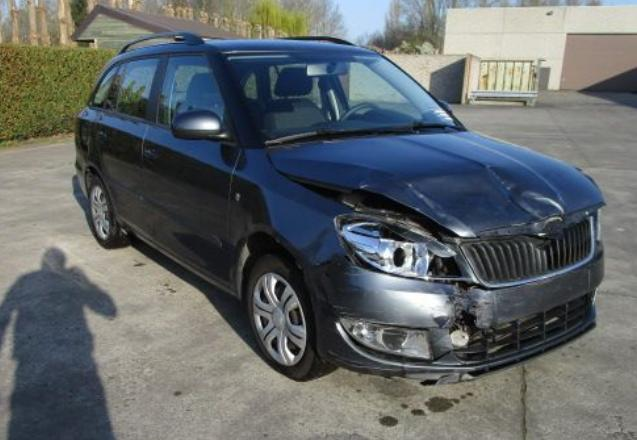Back-bumper: (75, 160, 87, 198)
Back-door: (90, 54, 165, 239)
Back-wheel: (88, 177, 132, 249)
Back-window: (106, 58, 159, 119), (91, 65, 118, 107)
Fender: (228, 149, 386, 292)
Front-bumper: (302, 241, 606, 376)
Front-door: (142, 53, 241, 283)
Front-wheel: (247, 255, 328, 380)
Front-window: (158, 55, 230, 129)
Grille: (444, 213, 596, 290)
Headlight: (336, 216, 467, 277), (596, 209, 603, 241)
Hood: (264, 130, 606, 237)
Mirror: (172, 110, 240, 149)
Quarter-panel: (75, 104, 102, 168)
Rocker-panel: (115, 215, 240, 300)
Roof: (204, 38, 380, 54)
Windshield: (221, 51, 466, 146)
